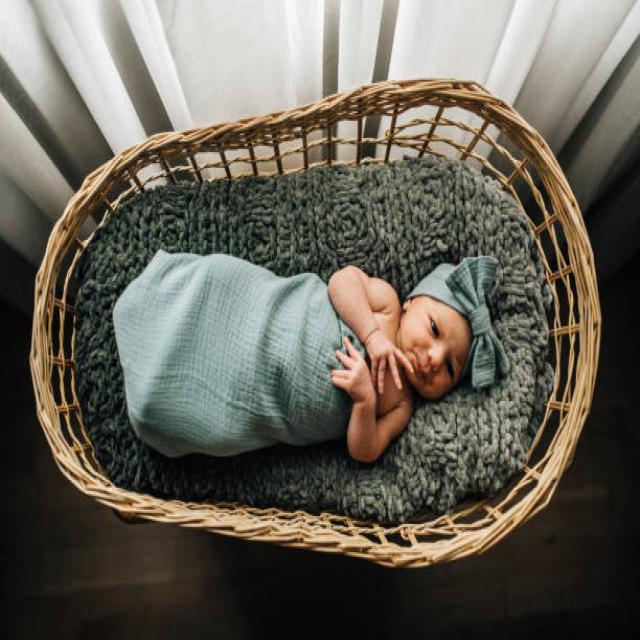crib: (44, 113, 590, 543)
